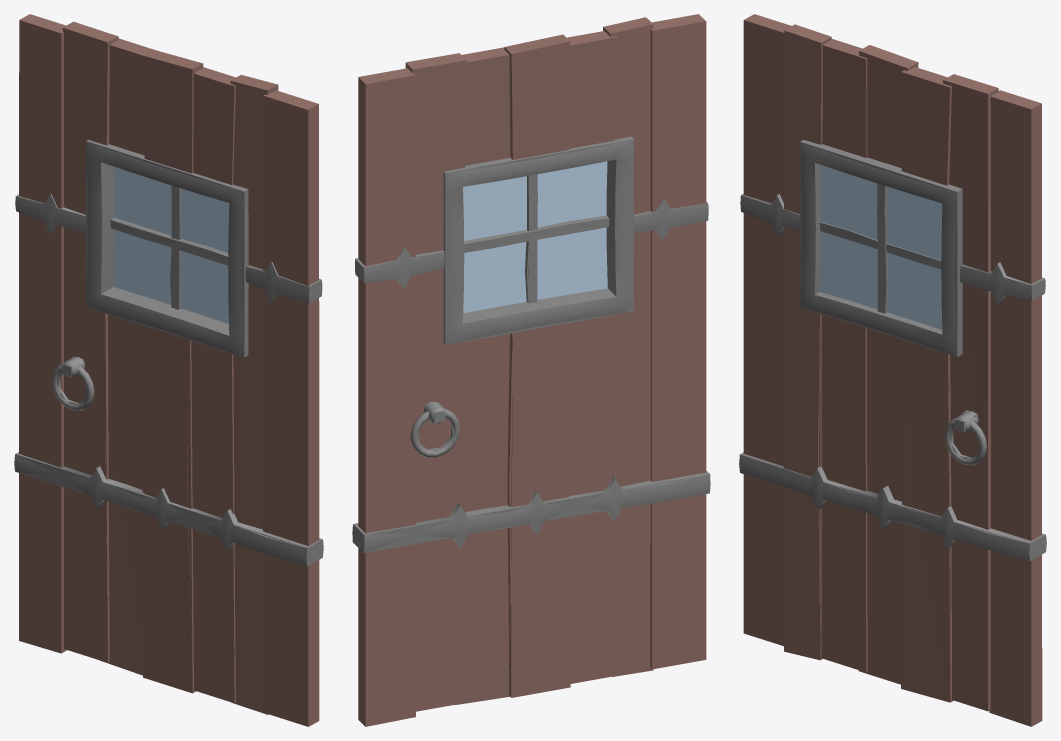
The model's file is Wooden_Door_1_W.fbx.
3 views of the same model, side by side, from view 1: azimuth 90°, elevation 25°; view 2: azimuth 150°, elevation 25°; view 3: azimuth 270°, elevation 25° (orthographic). The views are drawn at different scales.
Visible parts, largest first — view 1: Wooden_Door_1_W_LOD0, Wooden_Door_1_W, Wooden_Door_1_Glass; view 2: Wooden_Door_1_W_LOD0, Wooden_Door_1_W, Wooden_Door_1_Glass; view 3: Wooden_Door_1_W_LOD0, Wooden_Door_1_W, Wooden_Door_1_Glass.
Part boxes in pixels (<box>): Wooden_Door_1_W_LOD0: <box>15,20,322,726</box>; Wooden_Door_1_W: <box>14,14,323,714</box>; Wooden_Door_1_Glass: <box>113,166,229,323</box>; Wooden_Door_1_W_LOD0: <box>352,21,709,726</box>; Wooden_Door_1_W: <box>352,14,710,704</box>; Wooden_Door_1_Glass: <box>463,161,607,313</box>; Wooden_Door_1_W_LOD0: <box>740,20,1045,726</box>; Wooden_Door_1_W: <box>739,14,1046,711</box>; Wooden_Door_1_Glass: <box>820,164,942,329</box>.
Bounding box in the file's own units: 0.7611 × 2.18 × 0.9774.
